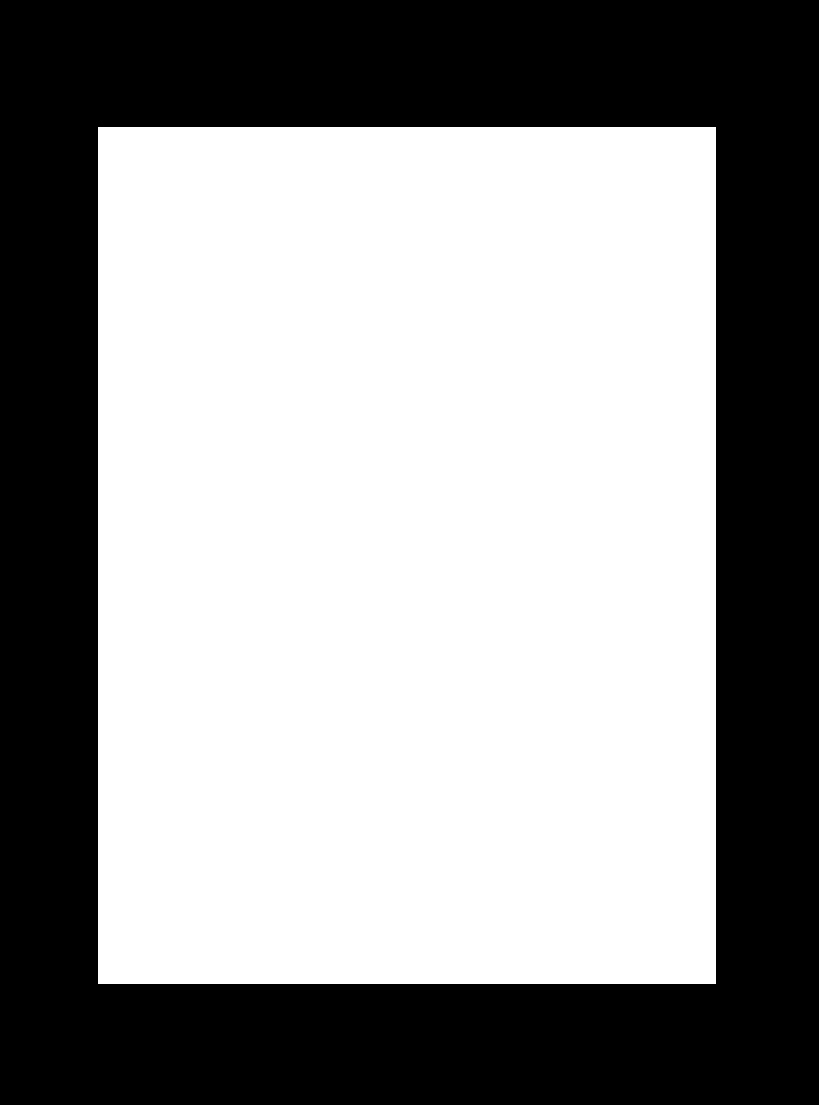table: (98, 127, 715, 983)
